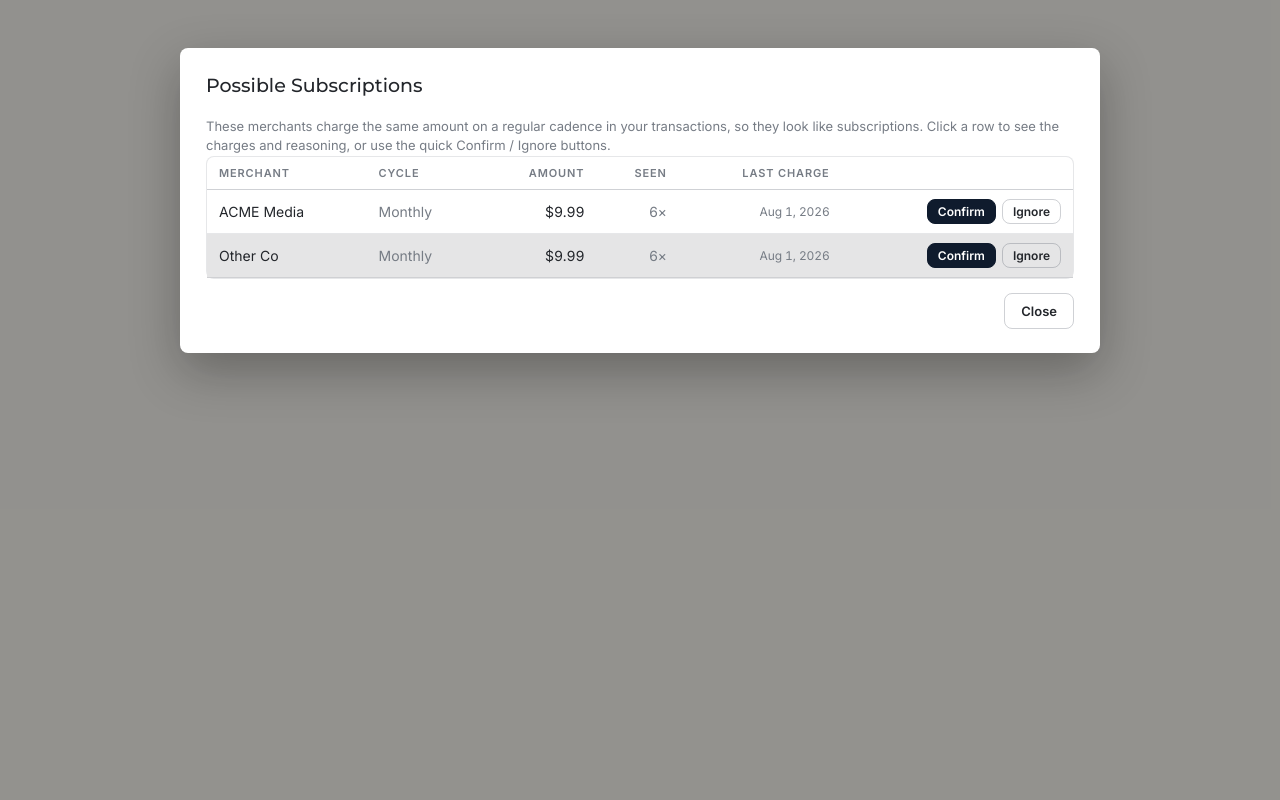
Test: SubscriptionSuggestions modal › keeps other rows when the list has more than one
The width and height of the screenshot is (1280, 800).
Expected: the text "Other Co" is shown, [207,234,366,278]
Click the button "Confirm" in the row of "ACME Media": (961, 212) [927,199,996,224]
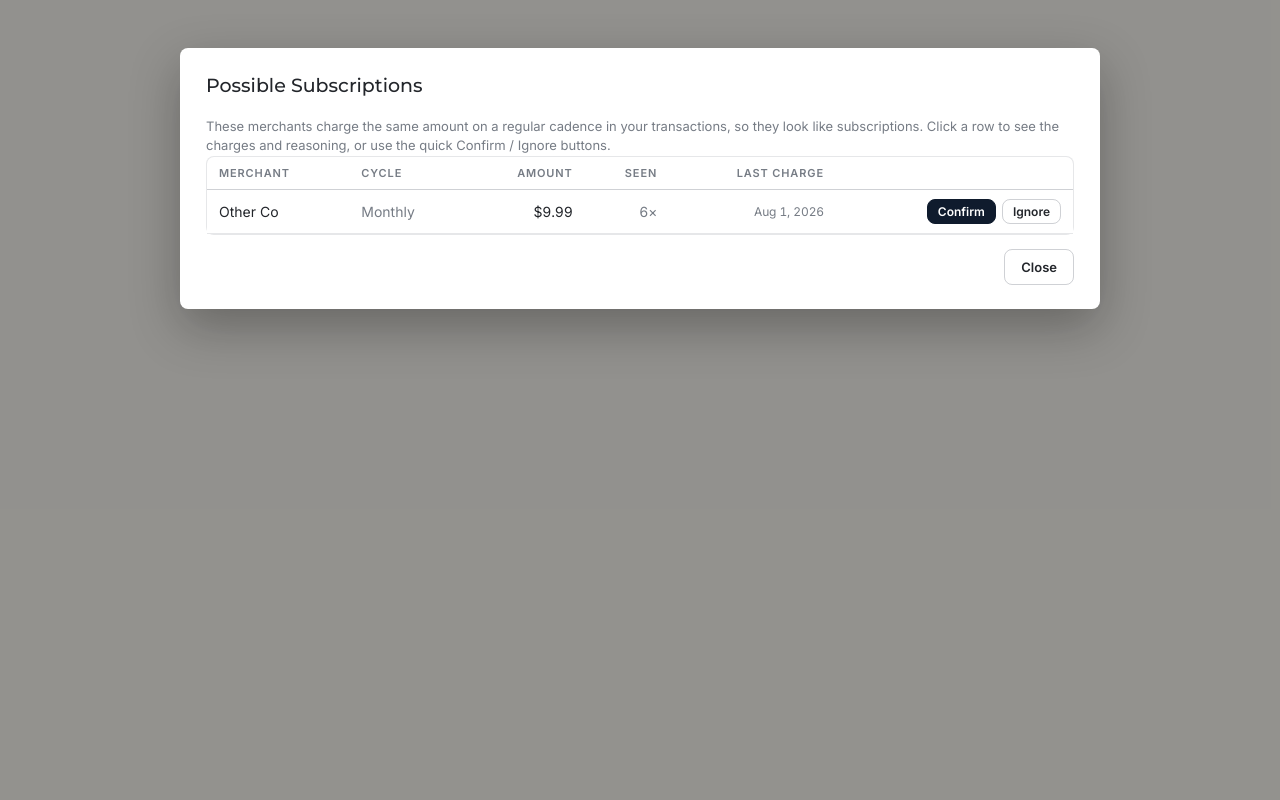
Expected: the text "Other Co" is shown, [207,190,349,234]
Now the text "ACME Media" is gone
